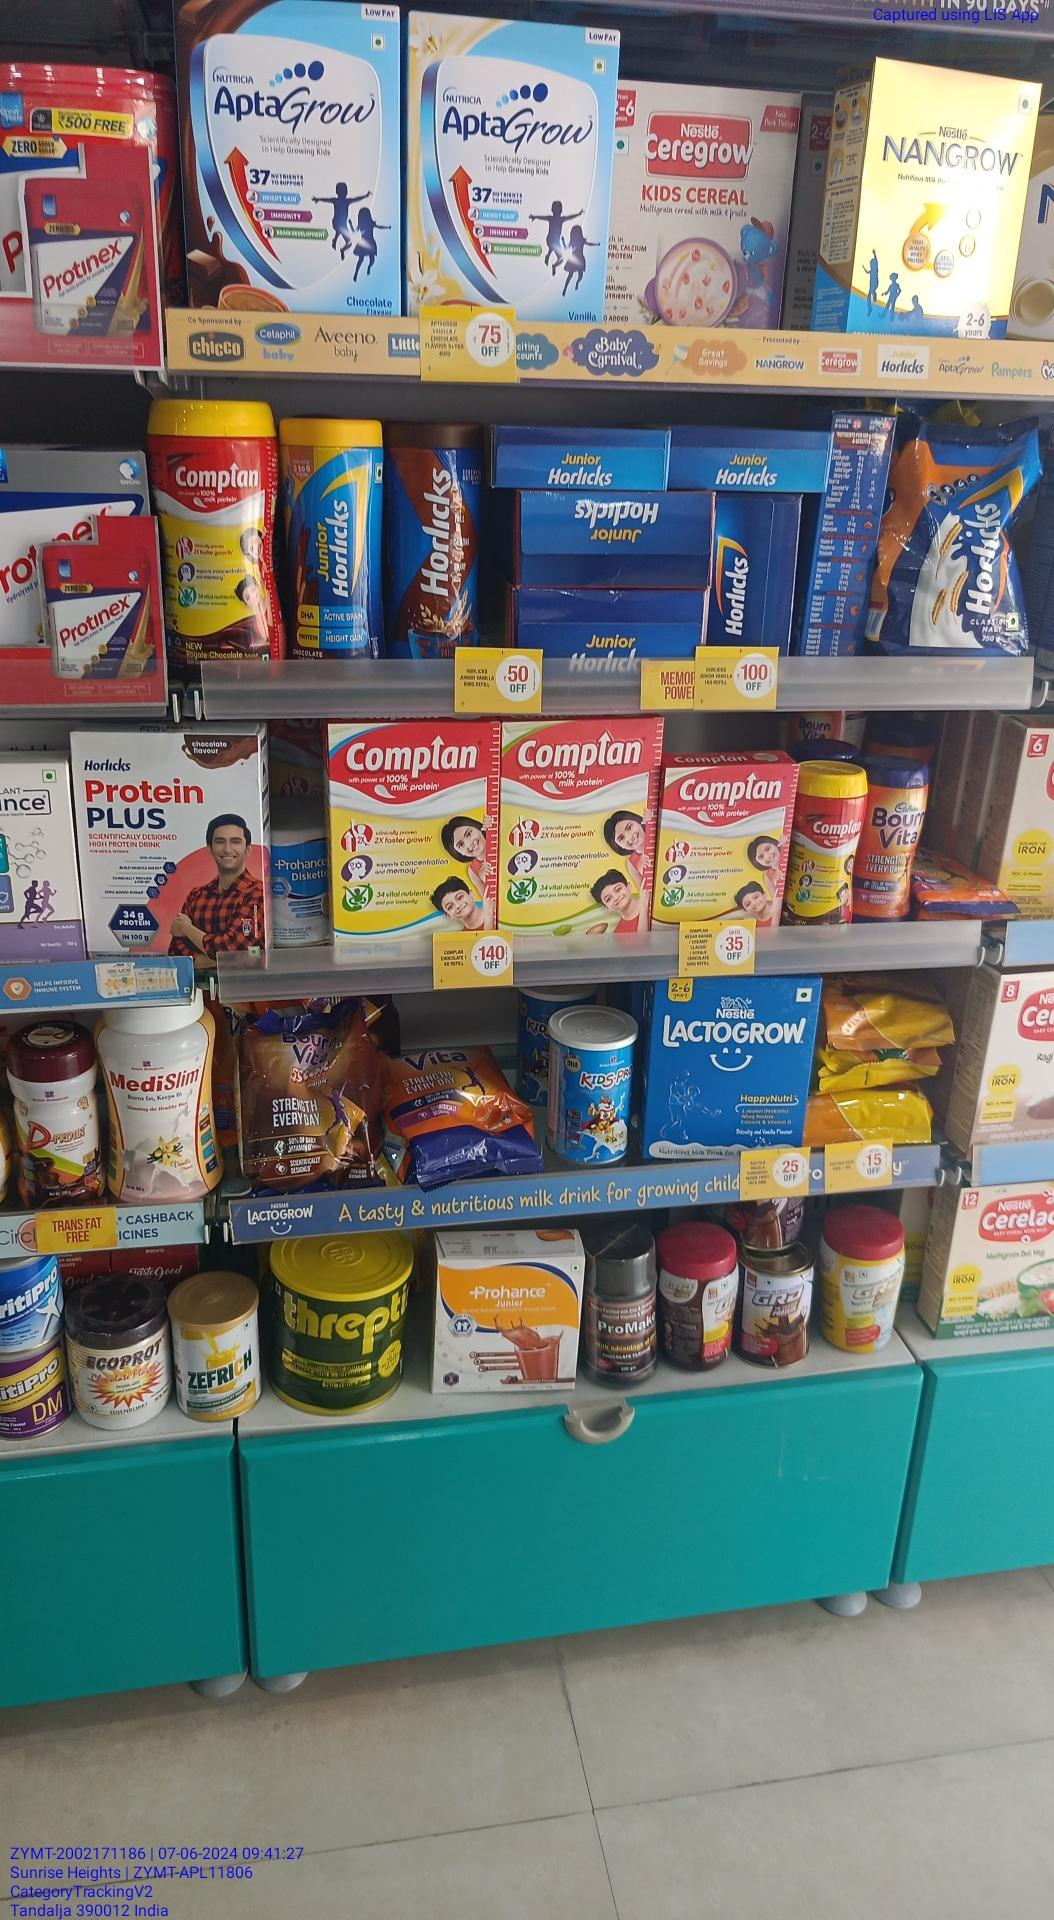BOURN_VITA_200_G_JAR: (864, 763, 928, 924)
BOURN_VITA_750_G_POUCH: (245, 1009, 374, 1186)
COMPLAN_CHOCOLATE_200_GMS_JAR: (789, 771, 864, 943)
COMPLAN_CHOCOLATE_500_GMS_PACK: (162, 396, 286, 693)
COMPLAN_CREAMY_CLASSIC_500_G_PACK: (331, 723, 497, 964)
COMPLAN_KESAR_BADAM_200_GMS_PACK: (663, 767, 790, 954)
COMPLAN_PISTA_BADAM_500_GMS_PACK: (501, 719, 653, 956)
HORLICK_CHOCOLATE_500_G_JAR: (393, 416, 489, 671)
